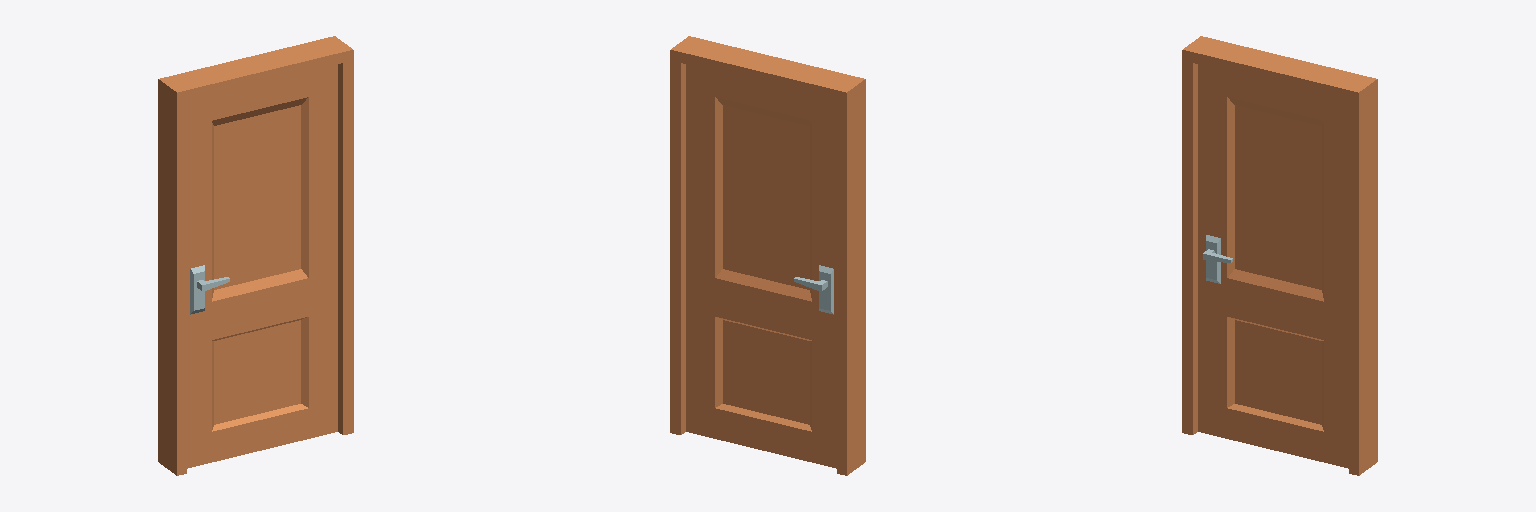
Rendered from doorway.obj.
3 views of the same model, side by side, from view 1: azimuth 30°, elevation 25°; view 2: azimuth 150°, elevation 25°; view 3: azimuth 330°, elevation 25° (orthographic).
Visible parts, largest first — view 1: door, doorway; view 2: door, doorway; view 3: door, doorway.
Part boxes in pixels (left/top/right/bottom): door: left=187, top=64, right=337, bottom=468; doorway: left=158, top=36, right=353, bottom=475; door: left=686, top=64, right=836, bottom=468; doorway: left=670, top=36, right=865, bottom=475; door: left=1198, top=64, right=1348, bottom=468; doorway: left=1182, top=36, right=1377, bottom=475.
Size of the model in its own units: 0.486 by 1.01 by 0.1134.